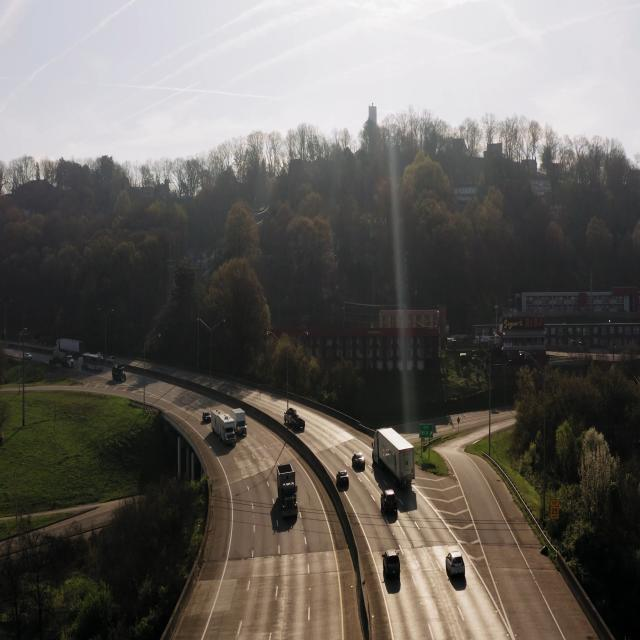Car: (370, 425, 418, 489), (276, 460, 300, 524), (444, 548, 468, 587), (380, 484, 400, 523), (383, 546, 402, 578), (350, 446, 368, 474), (336, 469, 351, 492)
